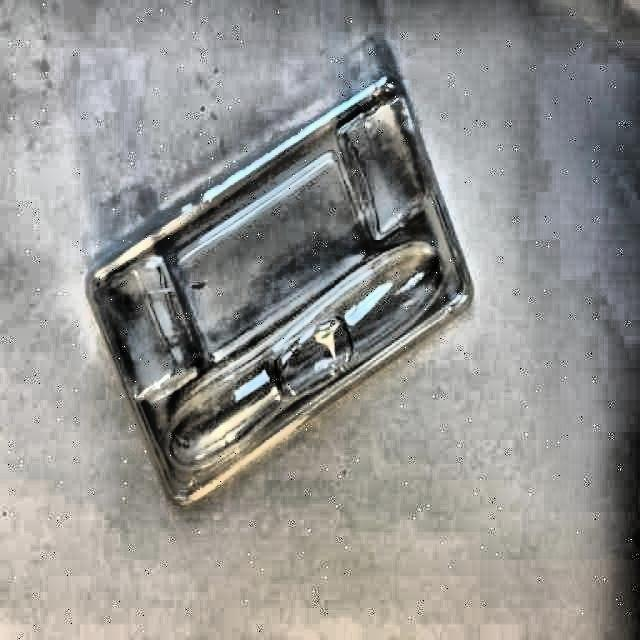plastic: (86, 76, 477, 512)
